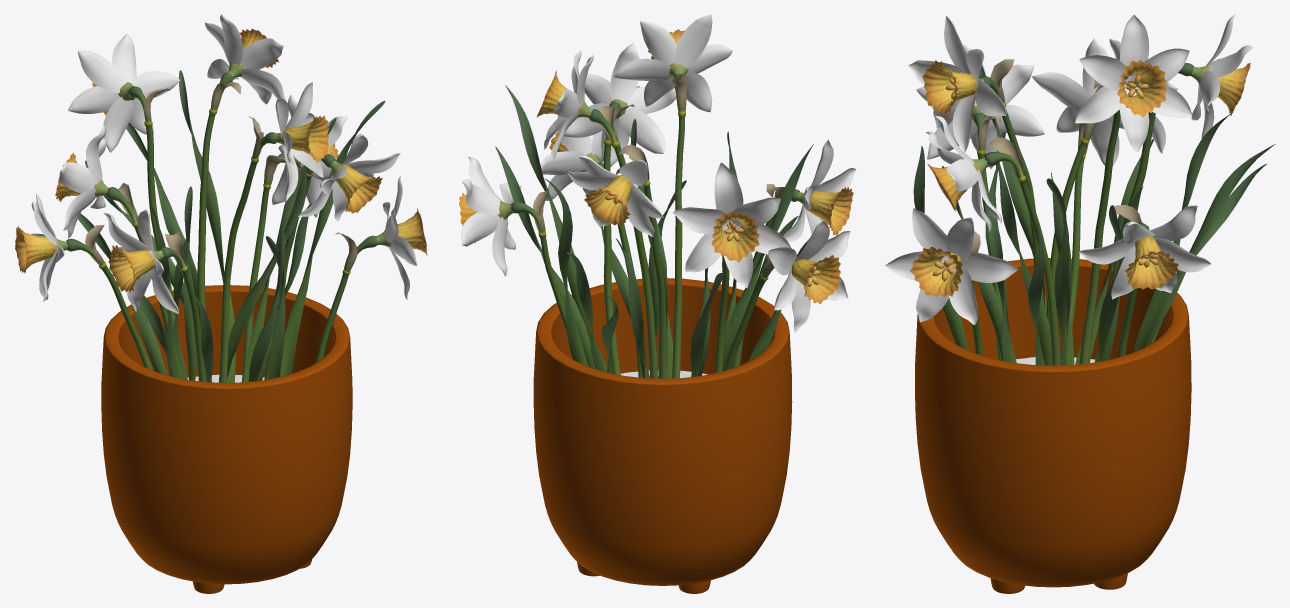
File: flower2.fbx
The picture shows the model from 3 angles, left to right: view 1: azimuth 30°, elevation 25°; view 2: azimuth 150°, elevation 25°; view 3: azimuth 270°, elevation 25°; orthographic projection. The views are drawn at different scales.
Parts seen in each view (by area): view 1: Object_15, Object_4, Object_5, Object_2, Object_8, Object_7, Object_6; view 2: Object_15, Object_4, Object_5, Object_2, Object_8, Object_7, Object_6, Object_3; view 3: Object_15, Object_4, Object_5, Object_8, Object_2, Object_7, Object_3, Object_6.
Boxes of the visible parts, box(x1,y1,x2,y2) form: Object_15: box(101, 285, 352, 593); Object_4: box(31, 14, 416, 314); Object_5: box(78, 70, 385, 382); Object_2: box(99, 108, 350, 382); Object_8: box(15, 28, 427, 292); Object_7: box(85, 82, 357, 271); Object_6: box(66, 72, 377, 267); Object_15: box(533, 278, 792, 593); Object_4: box(460, 14, 856, 332); Object_5: box(495, 85, 813, 378); Object_2: box(538, 111, 773, 378); Object_8: box(459, 29, 853, 304); Object_7: box(533, 74, 784, 278); Object_6: box(511, 73, 799, 271); Object_3: box(509, 73, 821, 286); Object_15: box(915, 258, 1191, 593); Object_4: box(885, 14, 1253, 325); Object_5: box(913, 65, 1275, 365); Object_8: box(910, 60, 1250, 297); Object_2: box(971, 102, 1155, 365); Object_7: box(971, 59, 1141, 252); Object_3: box(932, 68, 1194, 281); Object_6: box(973, 63, 1193, 230).
Size of the model in its own units: 1359 by 1932 by 1214.
